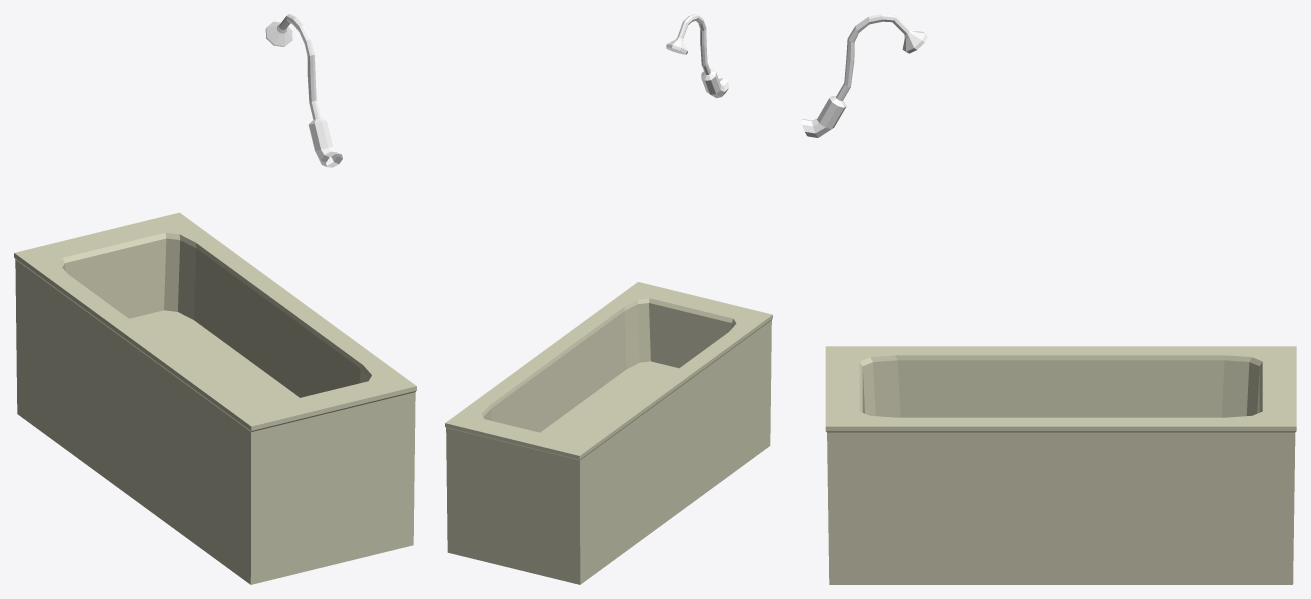
The model's file is ванна.fbx.
The picture shows the model from 3 angles, left to right: view 1: azimuth 30°, elevation 25°; view 2: azimuth 150°, elevation 25°; view 3: azimuth 270°, elevation 25°; orthographic projection. The views are drawn at different scales.
Visible parts, largest first — view 1: Cylinder.033; view 2: Cylinder.033; view 3: Cylinder.033.
Boxes of the visible parts, bbox=[...] form: Cylinder.033: bbox=[14, 14, 416, 584]; Cylinder.033: bbox=[445, 14, 772, 584]; Cylinder.033: bbox=[801, 14, 1296, 584].
Bounding box in the file's own units: 1111 × 3402 × 2902.
